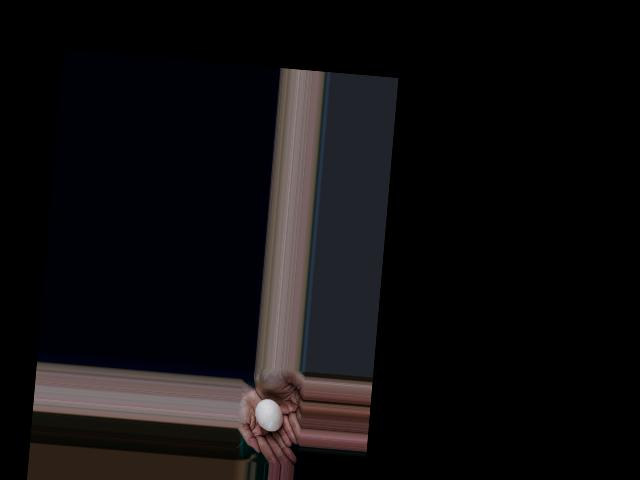egg: (254, 398, 284, 432)
